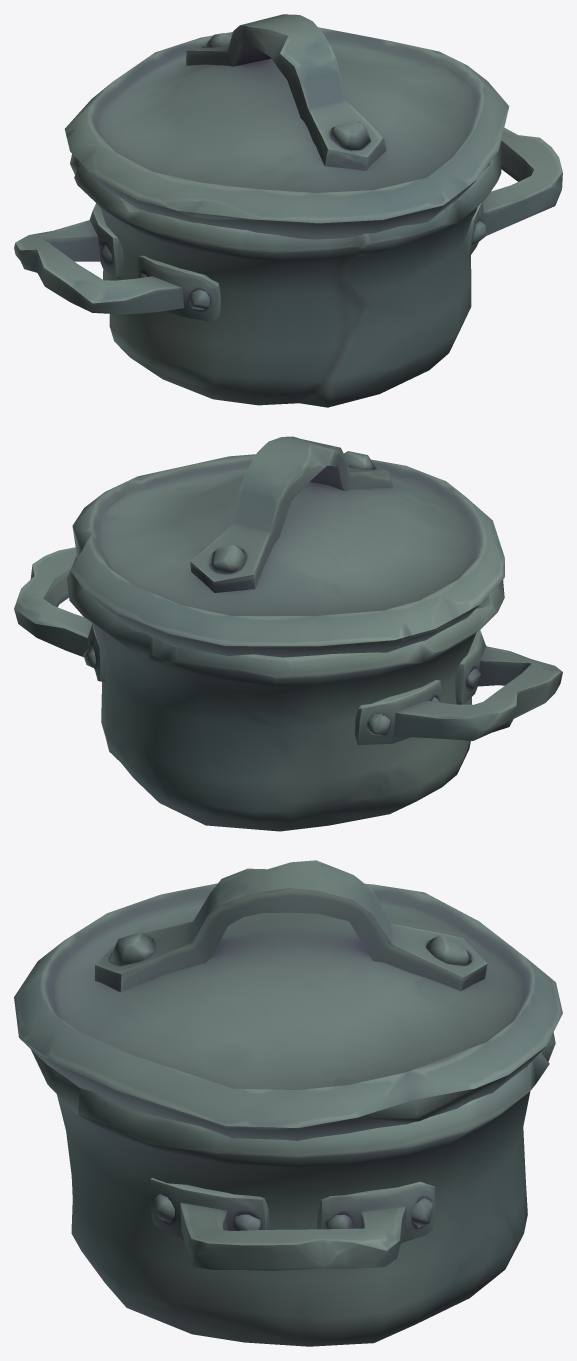
File: SM_FW01_CampProp_Pot_C_01.fbx
3 renders of one model, top to bottom at view 1: azimuth 30°, elevation 25°; view 2: azimuth 150°, elevation 25°; view 3: azimuth 270°, elevation 25°, orthographic. The views are drawn at different scales.
Visible parts, largest first — view 1: SM_FW01_CampProp_Pot_C_01_LOD0; view 2: SM_FW01_CampProp_Pot_C_01_LOD0; view 3: SM_FW01_CampProp_Pot_C_01_LOD0.
Part boxes in pixels (x1,y1,x2,y2): SM_FW01_CampProp_Pot_C_01_LOD0: [14, 14, 562, 407]; SM_FW01_CampProp_Pot_C_01_LOD0: [14, 436, 562, 831]; SM_FW01_CampProp_Pot_C_01_LOD0: [14, 860, 562, 1346].
Size of what is drawn, in the model's own units: 1.01 by 0.6048 by 0.7637.
